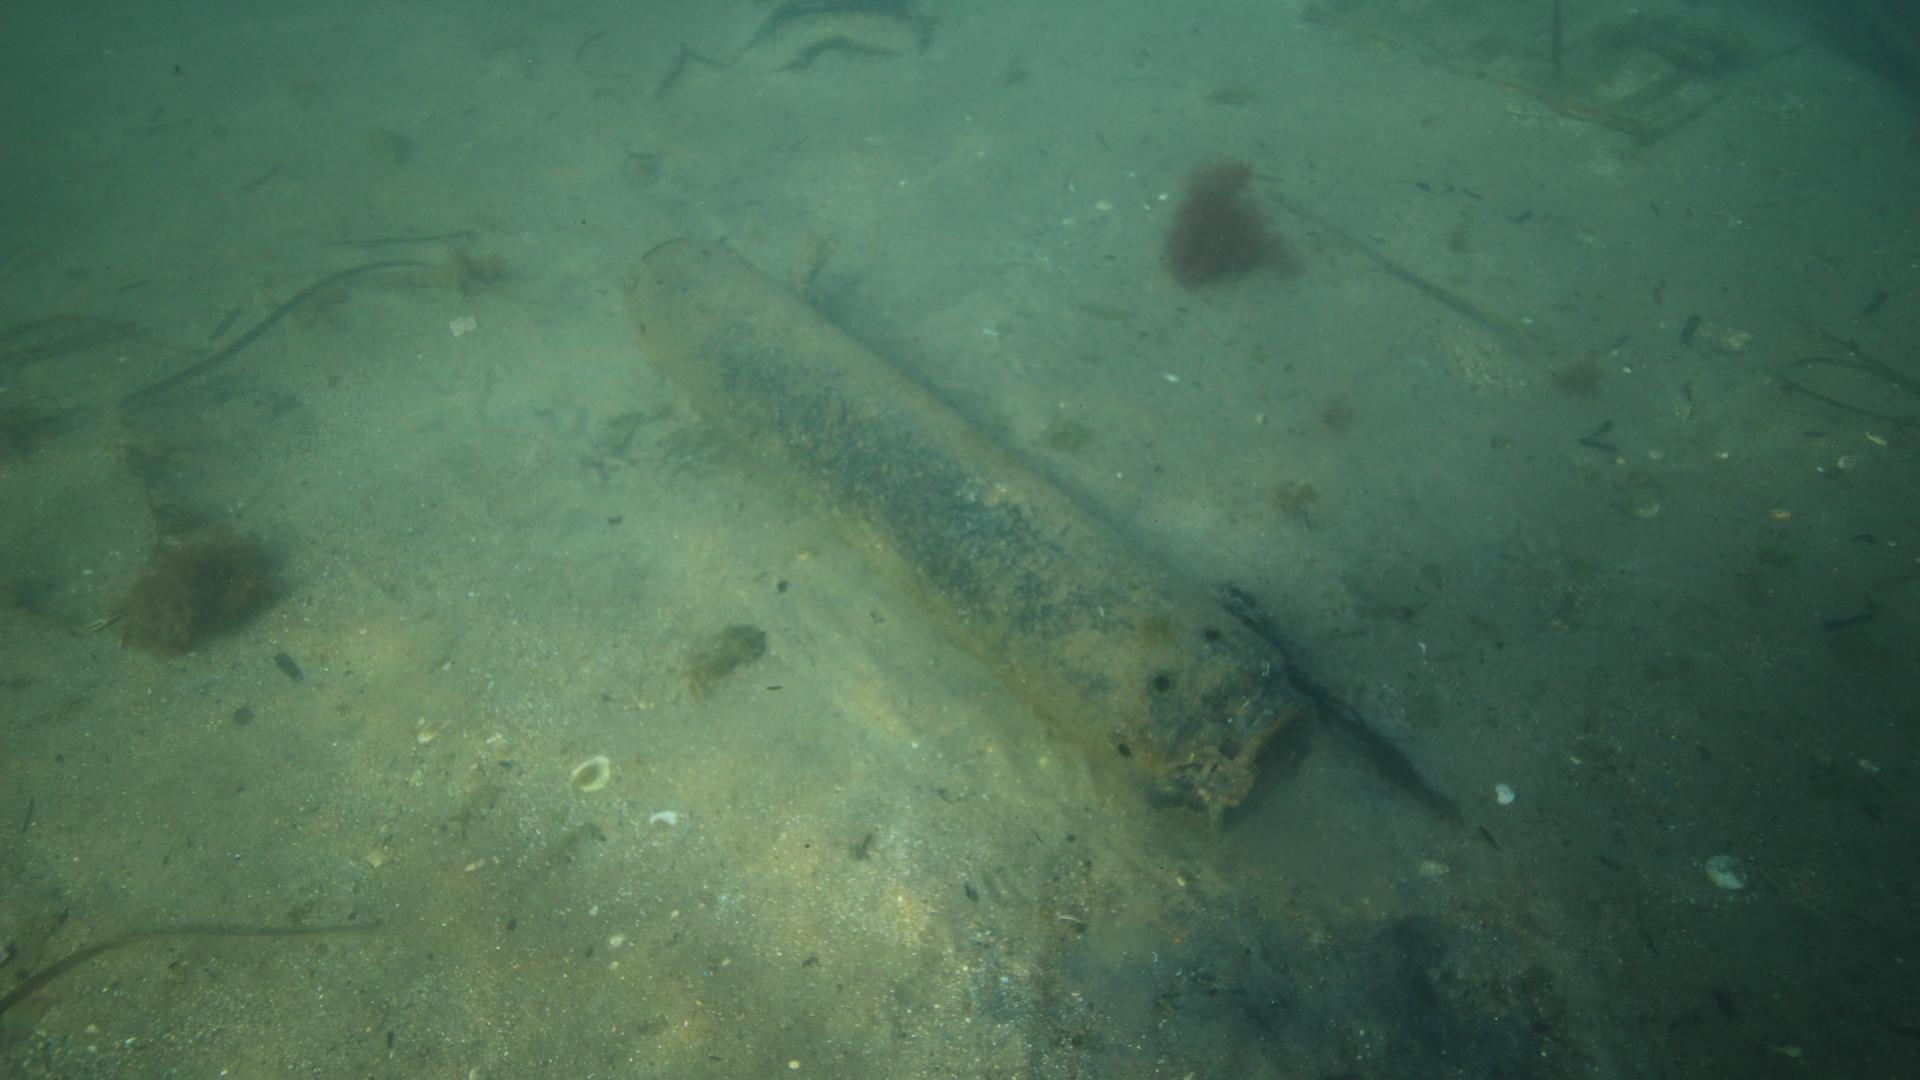eel fish trap: (625, 235, 1315, 824)
